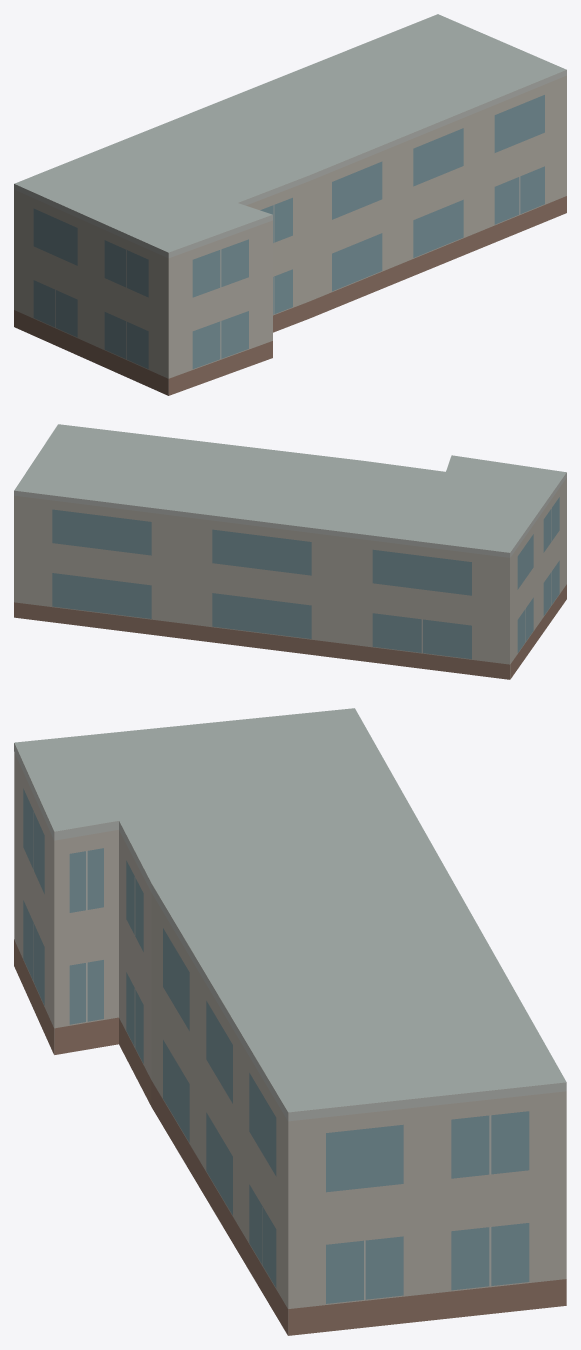
The model's file is survey-upis-32765975.glb.
3 renders of one model, top to bottom at view 1: azimuth 30°, elevation 25°; view 2: azimuth 150°, elevation 25°; view 3: azimuth 270°, elevation 25°, orthographic. The views are drawn at different scales.
Parts seen in each view (by area): view 1: survey-upis-32765975.tmp; view 2: survey-upis-32765975.tmp; view 3: survey-upis-32765975.tmp.
Boxes of the visible parts, x1=… form: survey-upis-32765975.tmp: x1=14, y1=14, x2=566, y2=395; survey-upis-32765975.tmp: x1=14, y1=424, x2=566, y2=679; survey-upis-32765975.tmp: x1=14, y1=708, x2=566, y2=1335.
Bounding box in the file's own units: 23.7 × 6.1 × 13.69.
